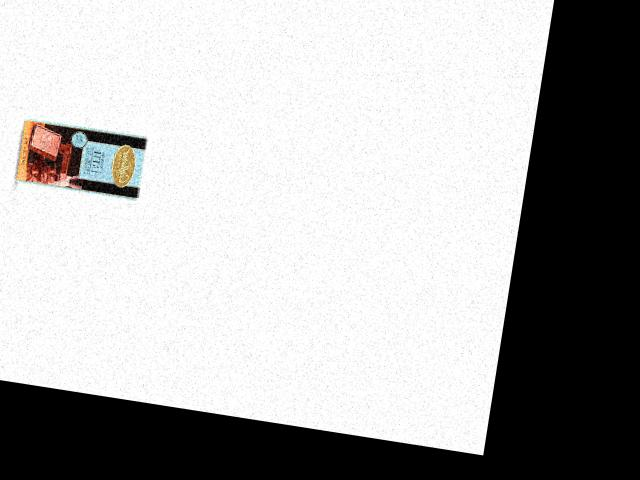chocolate: (13, 116, 149, 203)
